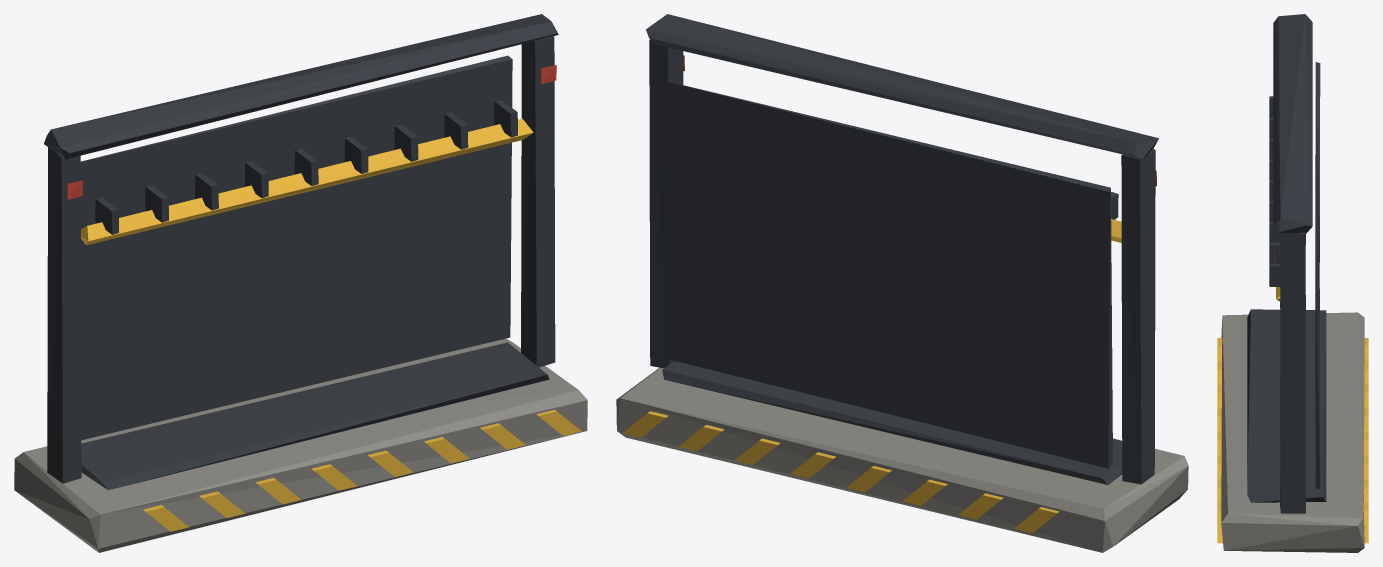
The model's file is weapon_rack_lod1.obj.
The picture shows the model from 3 angles, left to right: view 1: azimuth 30°, elevation 25°; view 2: azimuth 150°, elevation 25°; view 3: azimuth 270°, elevation 25°; orthographic projection. The views are drawn at different scales.
Parts seen in each view (by area): view 1: weapon_rack_lod1; view 2: weapon_rack_lod1; view 3: weapon_rack_lod1.
Boxes of the visible parts, <box> form: weapon_rack_lod1: <box>14,14,587,552</box>; weapon_rack_lod1: <box>616,14,1188,552</box>; weapon_rack_lod1: <box>1217,14,1368,552</box>.
Size of the model in its own units: 1.6 by 1.2 by 0.49.
